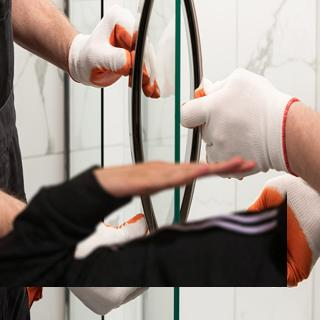Wait: (92, 143, 261, 205)
